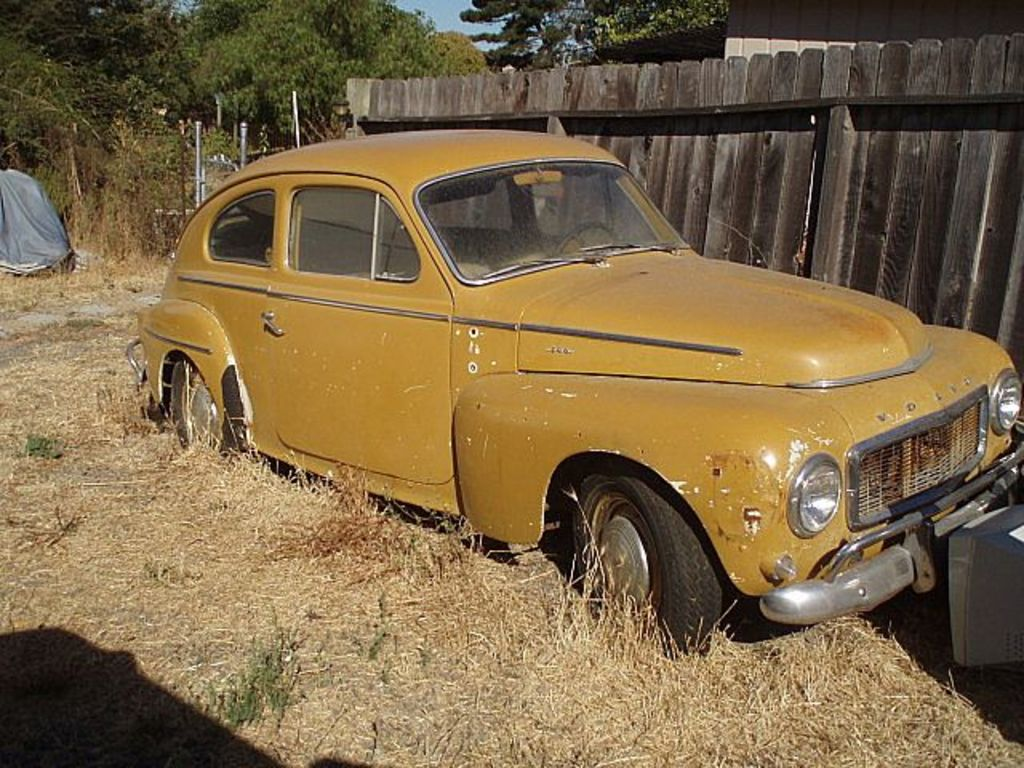Tree: (0, 0, 730, 240)
